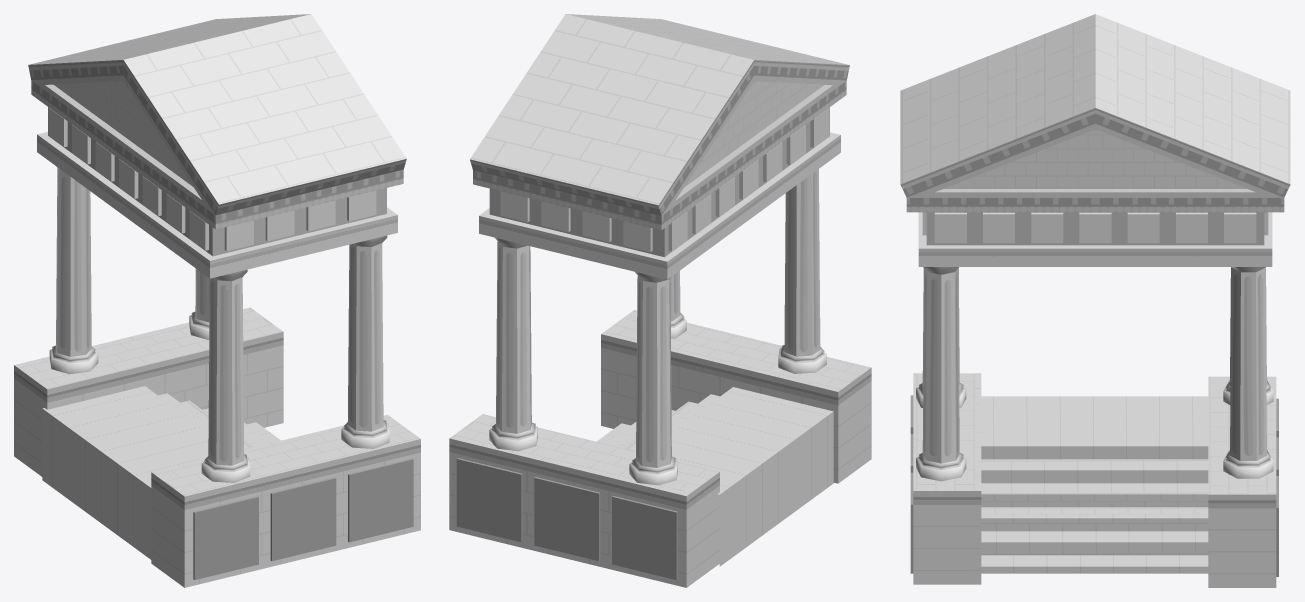
Rendered from Portal.glb.
3 renders of one model, left to right at view 1: azimuth 30°, elevation 25°; view 2: azimuth 150°, elevation 25°; view 3: azimuth 270°, elevation 25°, orthographic. The views are drawn at different scales.
Visible parts, largest first — view 1: portal; view 2: portal; view 3: portal.
Part boxes in pixels (left/top/right/bottom): portal: left=14, top=14, right=420, bottom=587; portal: left=449, top=14, right=871, bottom=587; portal: left=900, top=14, right=1290, bottom=587.
Size of what is drawn, in the model's own units: 4.39 by 7.88 by 5.96.
2 materials, 2 textured.
